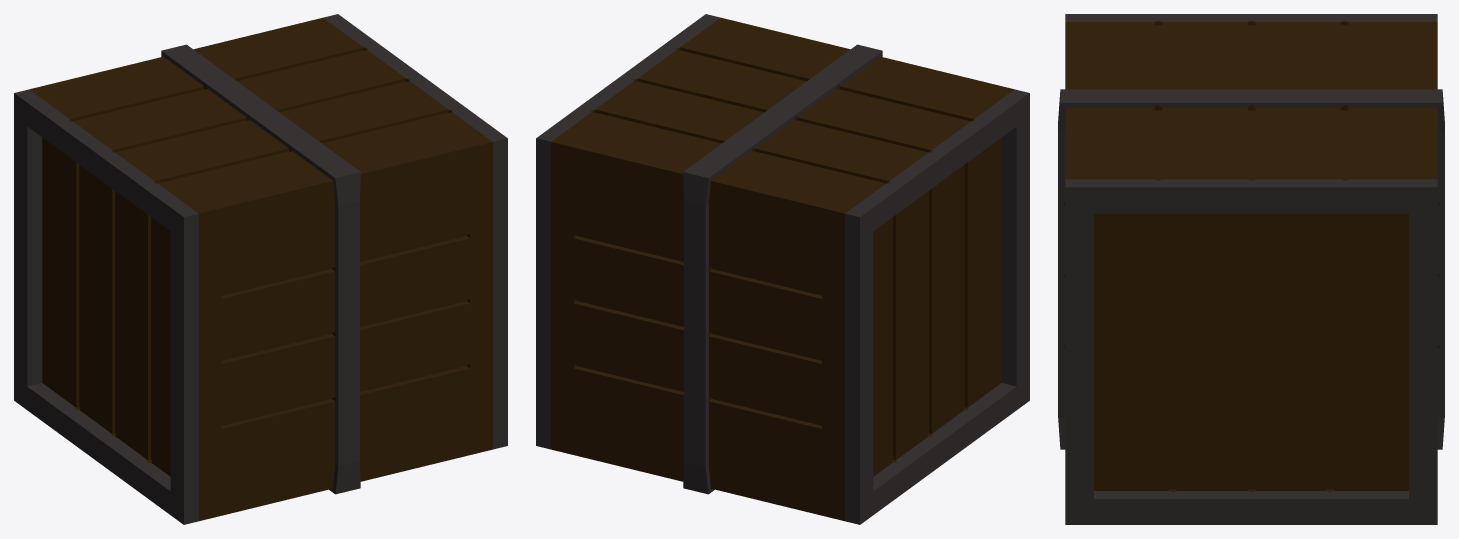
The model's file is WoodenCrate2.glb.
3 renders of one model, left to right at view 1: azimuth 30°, elevation 25°; view 2: azimuth 150°, elevation 25°; view 3: azimuth 270°, elevation 25°, orthographic. The views are drawn at different scales.
Parts seen in each view (by area): view 1: Wooden Crate 4; view 2: Wooden Crate 4; view 3: Wooden Crate 4.
Part boxes in pixels (left/top/right/bottom): Wooden Crate 4: left=14, top=14, right=507, bottom=524; Wooden Crate 4: left=536, top=14, right=1029, bottom=524; Wooden Crate 4: left=1058, top=14, right=1444, bottom=524.
Size of the model in its own units: 0.5509 by 0.5139 by 0.5191.
